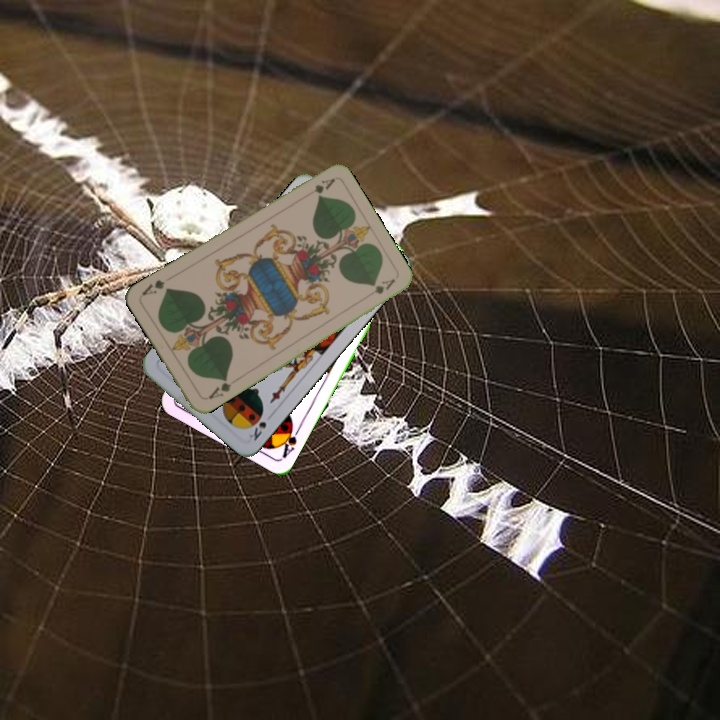GA: (205, 373, 234, 402), (310, 174, 337, 196)
SA: (275, 419, 303, 461)
SK: (245, 418, 269, 444)
